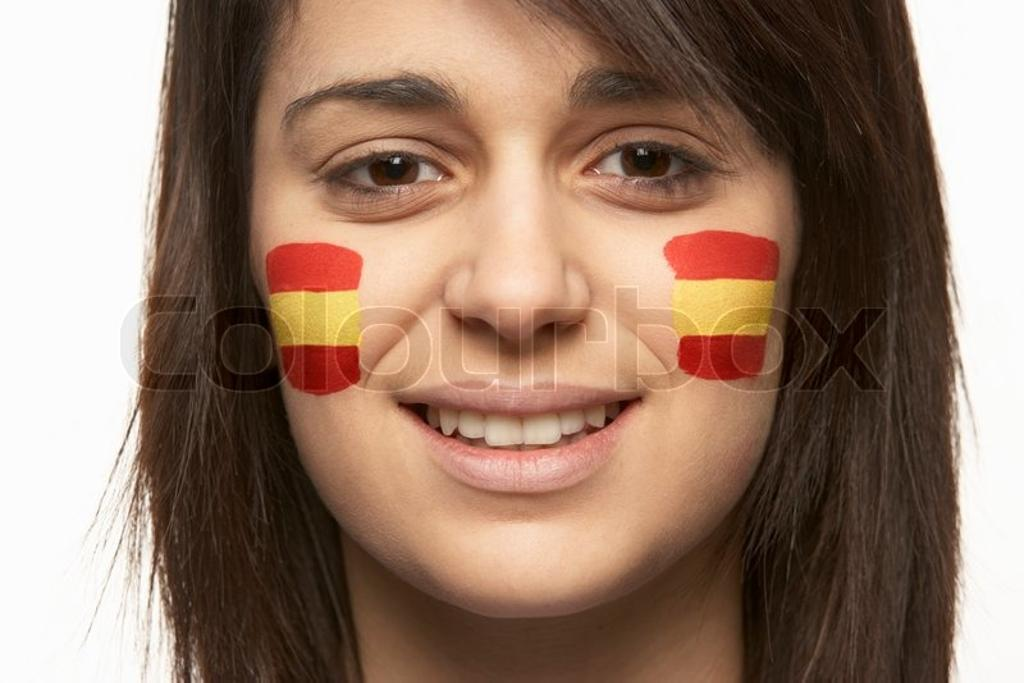face: (252, 4, 806, 612)
